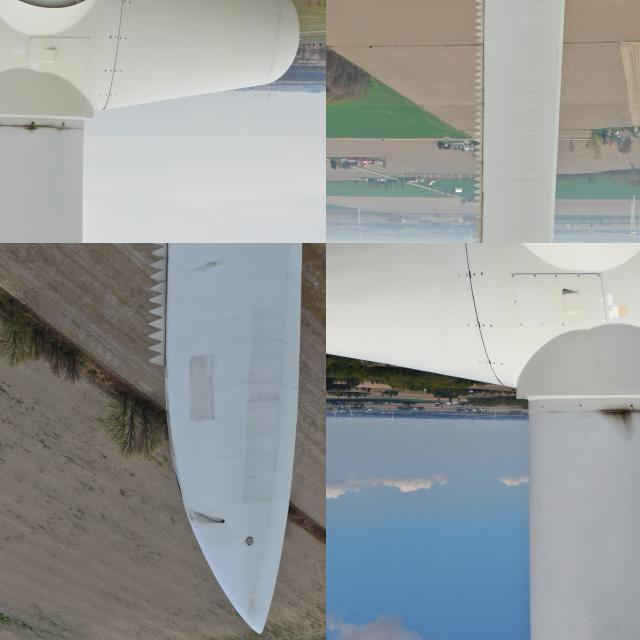damage: (595, 398, 635, 442), (189, 510, 225, 526), (220, 516, 224, 524)
